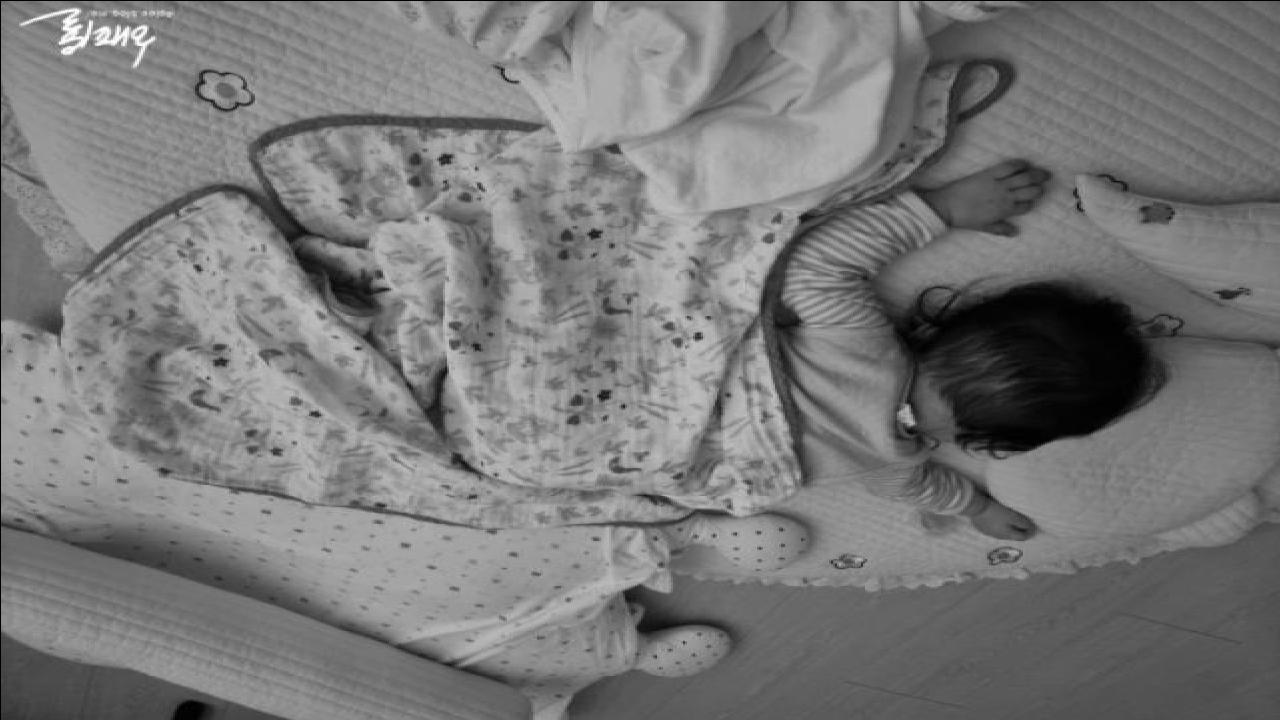hand: (940, 159, 1050, 235), (972, 503, 1036, 543)
